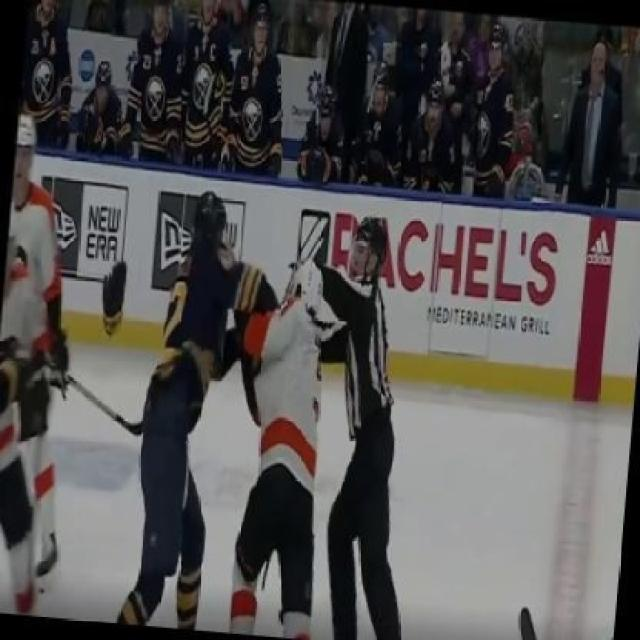fight: (91, 176, 451, 638)
